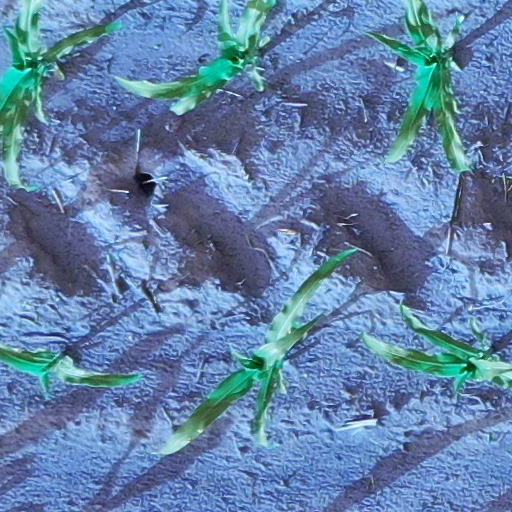planta: (160, 248, 355, 455)
